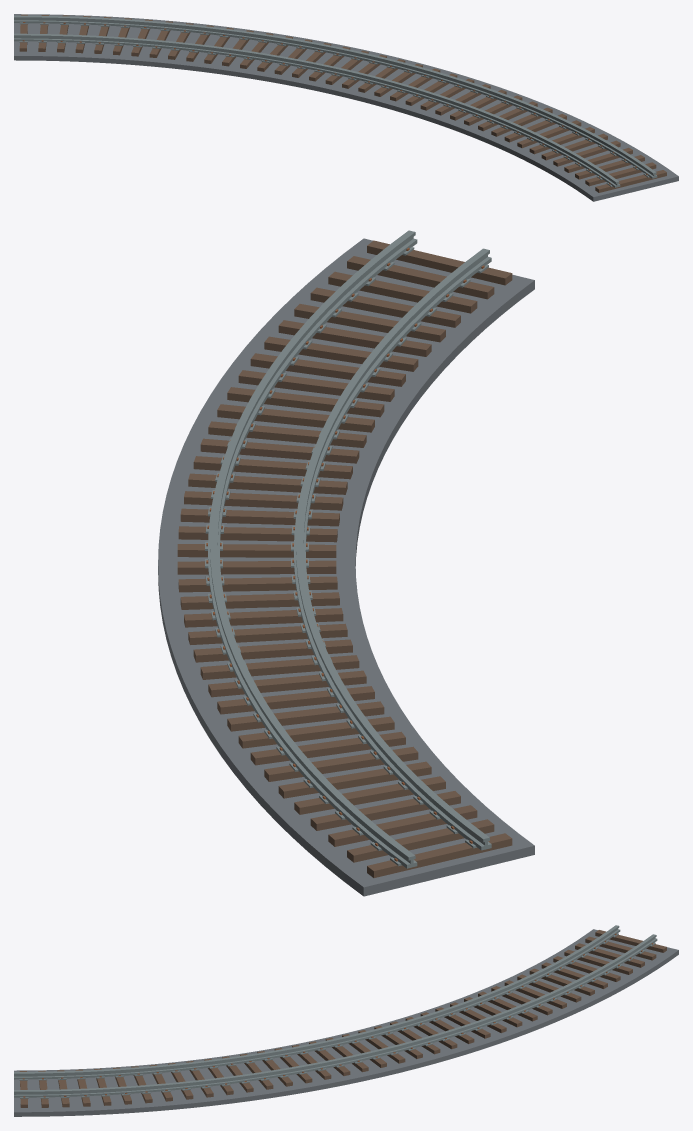
The model's file is DeadRail_TrackCurve_Left_60deg.fbx.
The picture shows the model from 3 angles, top to bottom: view 1: azimuth 30°, elevation 25°; view 2: azimuth 150°, elevation 25°; view 3: azimuth 270°, elevation 25°; orthographic projection. The views are drawn at different scales.
Visible parts, largest first — view 1: TrackCurve_Left_60deg_Mesh.002; view 2: TrackCurve_Left_60deg_Mesh.002; view 3: TrackCurve_Left_60deg_Mesh.002.
Boxes of the visible parts, x1=… form: TrackCurve_Left_60deg_Mesh.002: x1=14, y1=14, x2=678, y2=201; TrackCurve_Left_60deg_Mesh.002: x1=158, y1=230, x2=534, y2=896; TrackCurve_Left_60deg_Mesh.002: x1=14, y1=925, x2=678, y2=1116.
Bounding box in the file's own units: 14.47 × 0.52 × 22.21.
